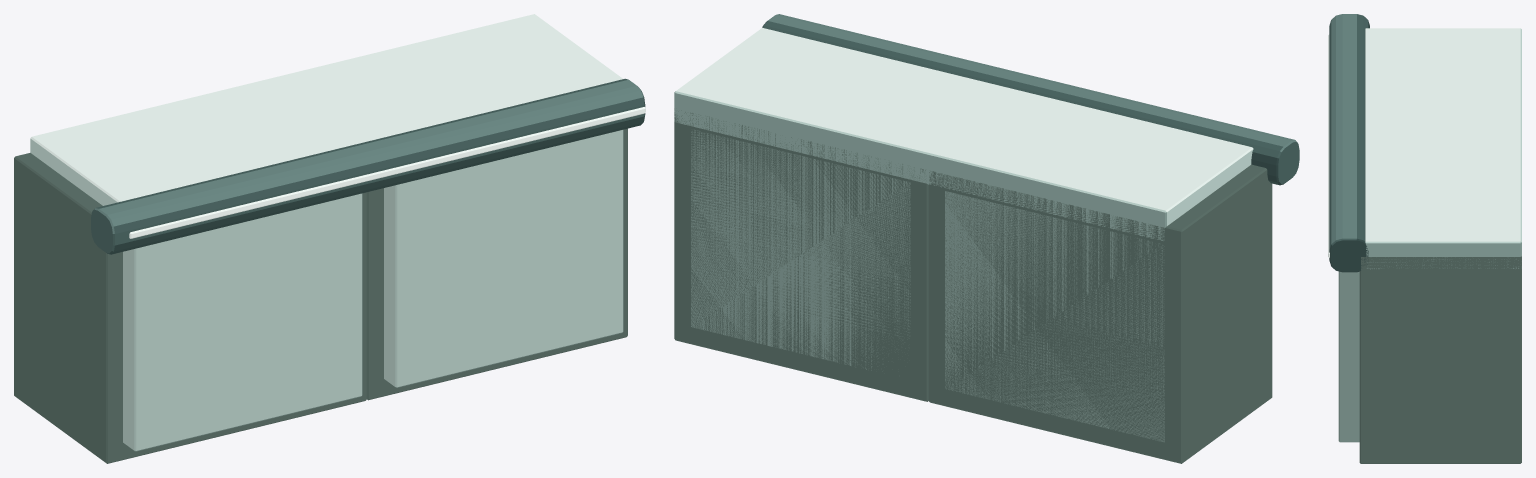
Rendered from Terrain_TopRun2L.gltf.
3 renders of one model, left to right at view 1: azimuth 30°, elevation 25°; view 2: azimuth 150°, elevation 25°; view 3: azimuth 270°, elevation 25°, orthographic. The views are drawn at different scales.
Visible parts, largest first — view 1: Terrain_TopRun2L_baked; view 2: Terrain_TopRun2L_baked; view 3: Terrain_TopRun2L_baked.
Boxes of the visible parts, x1,y1,x2,y2 form: Terrain_TopRun2L_baked: (14, 14, 645, 463); Terrain_TopRun2L_baked: (674, 14, 1299, 463); Terrain_TopRun2L_baked: (1328, 14, 1521, 463).
Bounding box in the file's own units: 2.04 × 0.9495 × 0.74.
